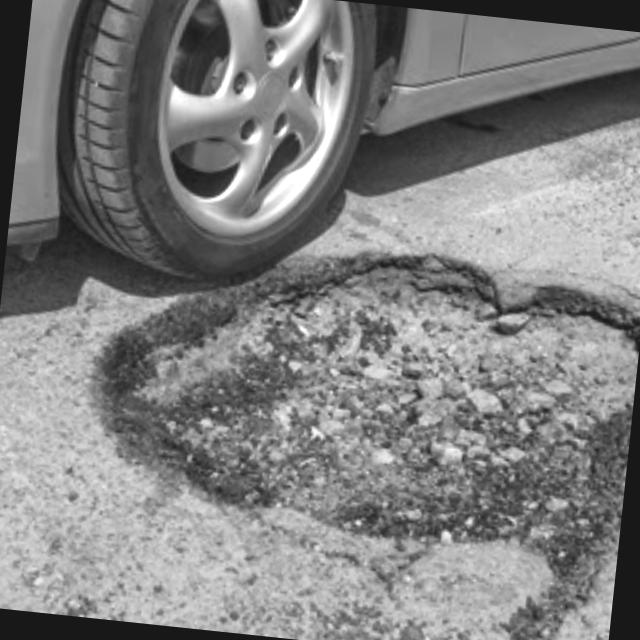Pothole: (10, 182, 640, 619)
